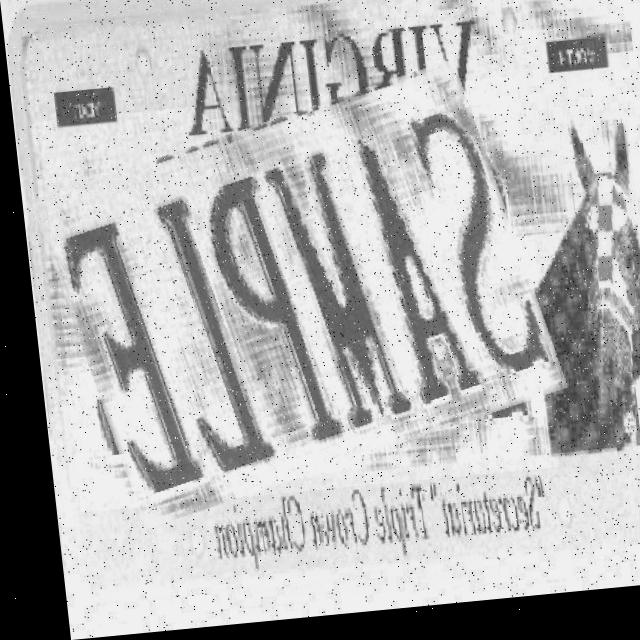LicensePlate: (35, 86, 548, 513)
